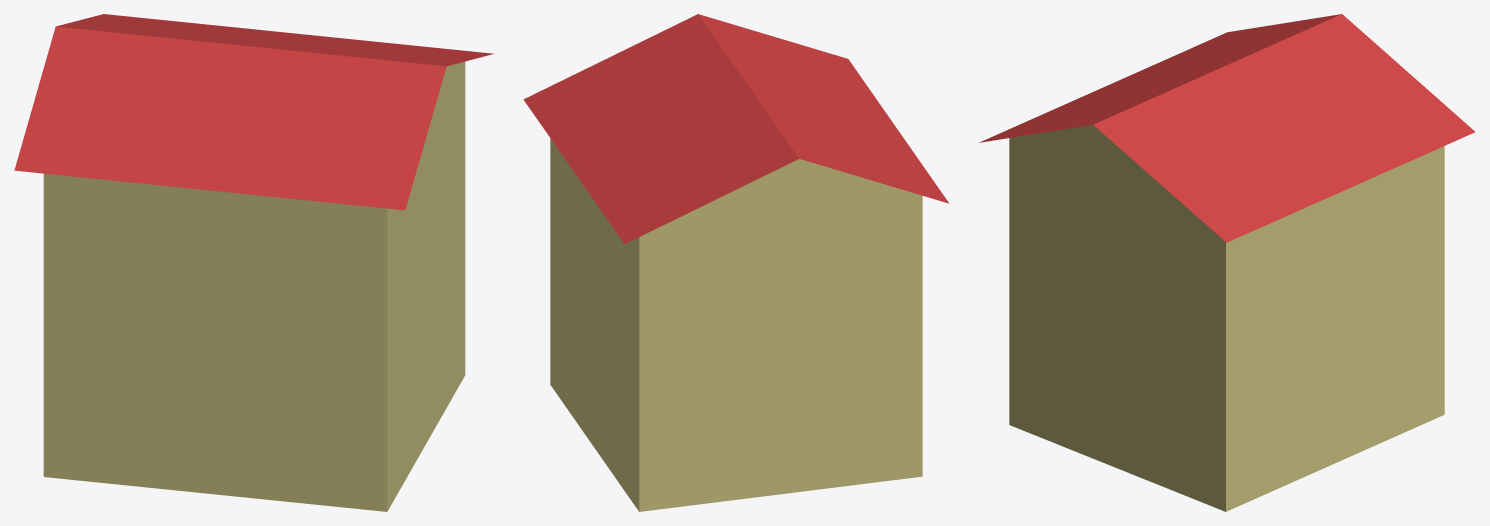
3 views of the same model, side by side, from view 1: azimuth 30°, elevation 25°; view 2: azimuth 150°, elevation 25°; view 3: azimuth 270°, elevation 25° (orthographic). The views are drawn at different scales.
Visible parts, largest first — view 1: group_5, group_3, group_4; view 2: group_5, group_3, group_4; view 3: group_5, group_3, group_4.
Part boxes in pixels (x1,y1,x2,y2): group_5: (43,61,465,511); group_3: (16,18,494,210); group_4: (14,14,484,173); group_5: (550,138,922,511); group_3: (523,14,948,241); group_4: (524,15,948,244); group_5: (1009,124,1444,511); group_3: (979,14,1444,242); group_4: (1097,14,1474,241).
Bounding box in the file's own units: 17.03 × 17.01 × 13.08.
